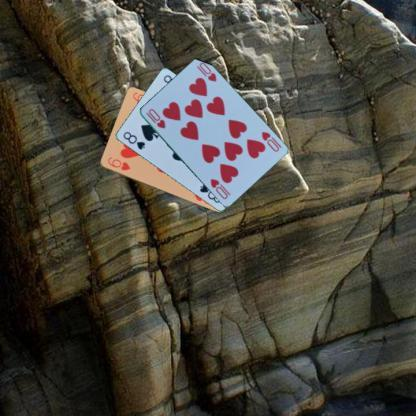10h: (144, 106, 166, 130), (258, 129, 280, 153)
6h: (104, 154, 132, 172)
8s: (120, 129, 146, 151)
